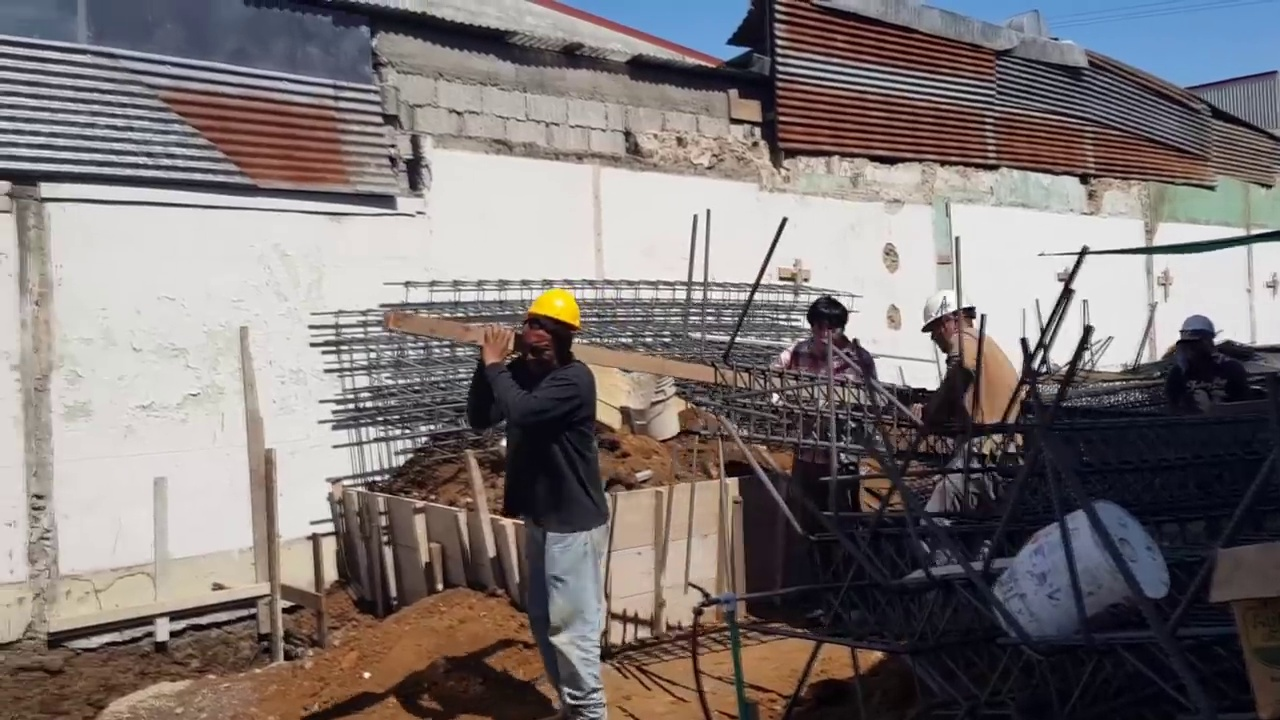helmet: (524, 289, 583, 332), (920, 293, 975, 332), (1180, 315, 1219, 338)
helmet-off: (807, 298, 851, 357)
helmet-on: (511, 291, 580, 377), (920, 293, 979, 353), (1177, 314, 1219, 352)
person: (481, 280, 617, 715), (777, 298, 891, 503), (919, 291, 1020, 511), (1164, 314, 1240, 416)
